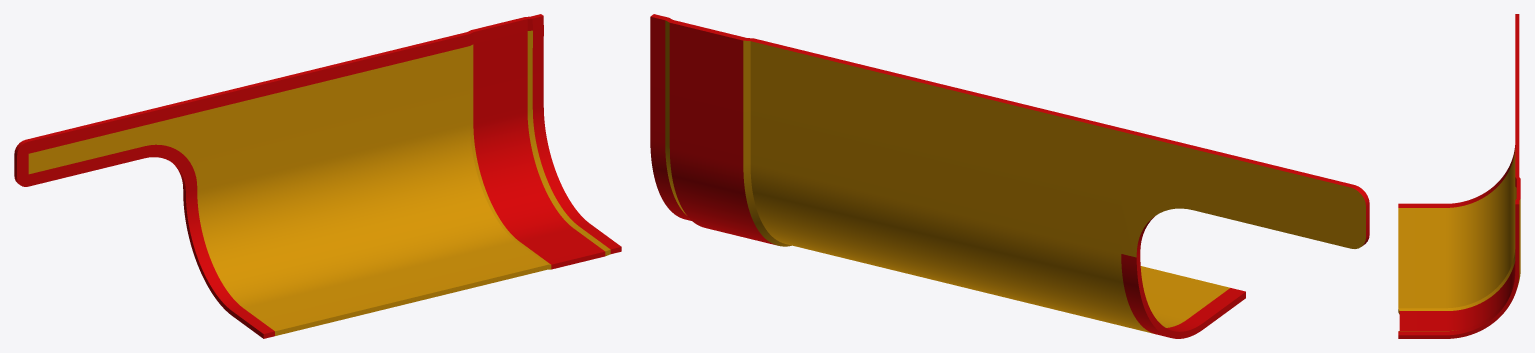
File: QuarterRamp.fbx
The picture shows the model from 3 angles, left to right: view 1: azimuth 30°, elevation 25°; view 2: azimuth 150°, elevation 25°; view 3: azimuth 270°, elevation 25°; orthographic projection. The views are drawn at different scales.
Parts seen in each view (by area): view 1: Plane.001; view 2: Plane.001; view 3: Plane.001.
Boxes of the visible parts, <box> form: Plane.001: <box>14,14,621,338</box>; Plane.001: <box>650,14,1369,338</box>; Plane.001: <box>1398,14,1520,338</box>.
Size of the model in its own units: 5593 by 1831 by 1497.
